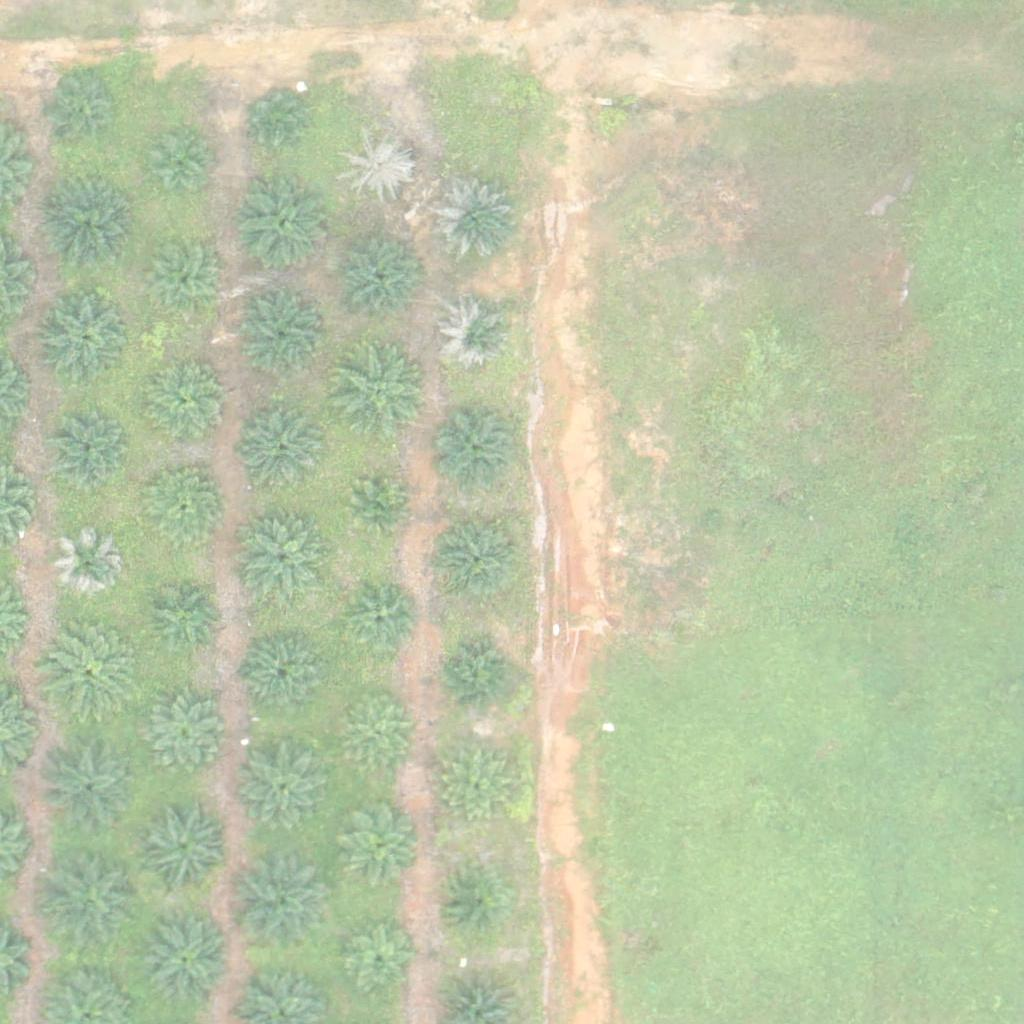Kelapa_Sawit: (44, 620, 144, 721), (227, 854, 327, 955), (132, 685, 232, 786), (132, 795, 232, 896), (38, 735, 138, 836), (234, 175, 334, 275), (333, 229, 433, 329), (333, 343, 433, 443), (41, 851, 141, 951), (140, 465, 228, 554), (242, 632, 330, 721), (141, 572, 229, 660), (44, 184, 132, 272), (41, 297, 129, 385), (143, 363, 231, 451), (429, 177, 517, 265), (431, 407, 519, 495), (432, 518, 520, 606), (237, 746, 325, 834), (333, 799, 420, 887), (239, 292, 326, 380), (238, 408, 325, 496), (239, 518, 326, 606), (141, 919, 228, 1007), (340, 128, 415, 204), (441, 298, 516, 374), (146, 247, 221, 322), (346, 583, 421, 658), (344, 925, 419, 1000), (436, 746, 511, 821), (443, 638, 518, 713), (50, 415, 125, 490), (52, 529, 127, 604), (338, 694, 413, 769), (51, 80, 114, 143), (148, 127, 211, 190), (441, 869, 504, 932), (348, 478, 411, 541), (244, 88, 306, 150)
